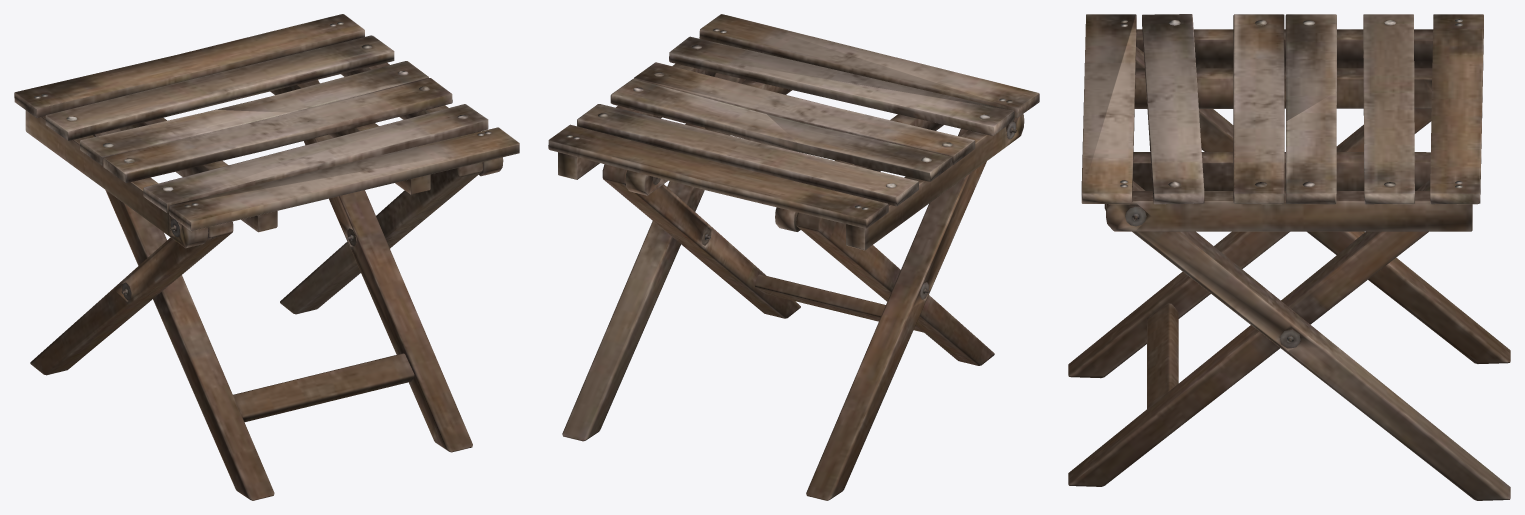
The model's file is folding_wooden_stool.glb.
3 renders of one model, left to right at view 1: azimuth 30°, elevation 25°; view 2: azimuth 150°, elevation 25°; view 3: azimuth 270°, elevation 25°, orthographic. The views are drawn at different scales.
Visible parts, largest first — view 1: folding_wooden_stool; view 2: folding_wooden_stool; view 3: folding_wooden_stool.
Part boxes in pixels (<box>): folding_wooden_stool: <box>14,14,519,500</box>; folding_wooden_stool: <box>548,14,1039,500</box>; folding_wooden_stool: <box>1068,14,1510,500</box>.
Size of the model in its own units: 0.527 by 0.442 by 0.5471.
1 material, 1 textured.
